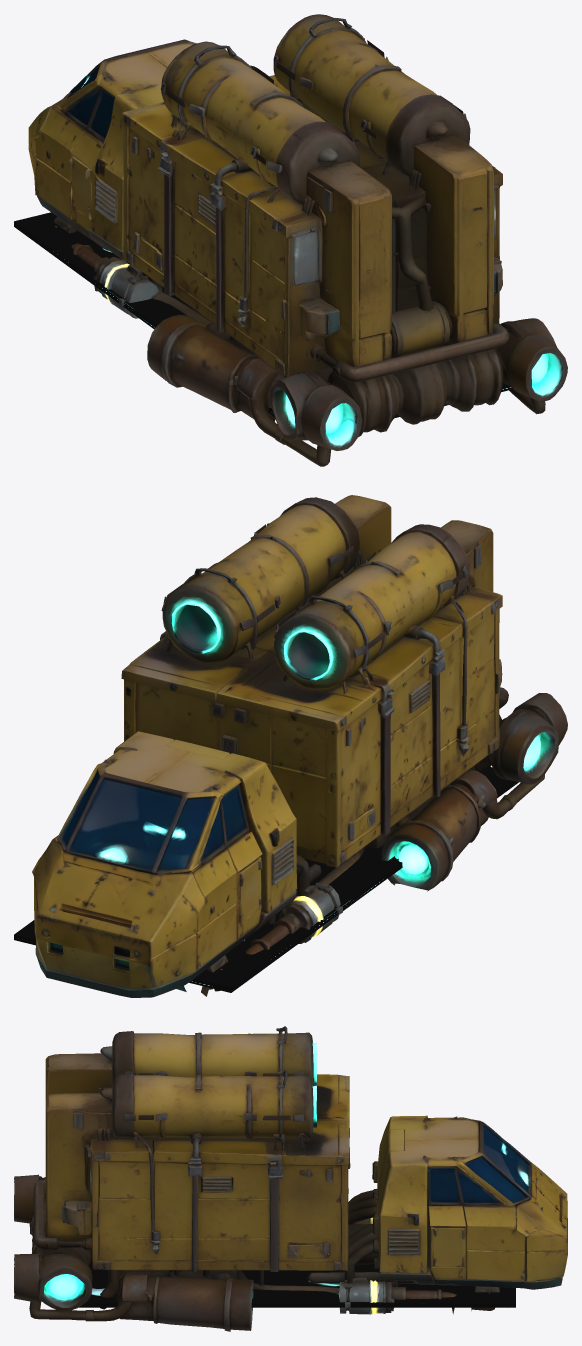
The model's file is hauler.glb.
The picture shows the model from 3 angles, top to bottom: view 1: azimuth 30°, elevation 25°; view 2: azimuth 150°, elevation 25°; view 3: azimuth 270°, elevation 25°; orthographic projection. The views are drawn at different scales.
Parts seen in each view (by area): view 1: model, Underplate; view 2: model, Underplate; view 3: model, Underplate.
Boxes of the visible parts, left/top/right/bottom form: model: left=28, top=14, right=567, bottom=466; Underplate: left=14, top=212, right=512, bottom=418; model: left=32, top=495, right=567, bottom=997; Underplate: left=14, top=766, right=518, bottom=992; model: left=14, top=1026, right=567, bottom=1331; Underplate: left=79, top=1260, right=515, bottom=1307.
Size of the model in its own units: 3.35 by 3.23 by 7.07.
2 materials, 2 textured.
